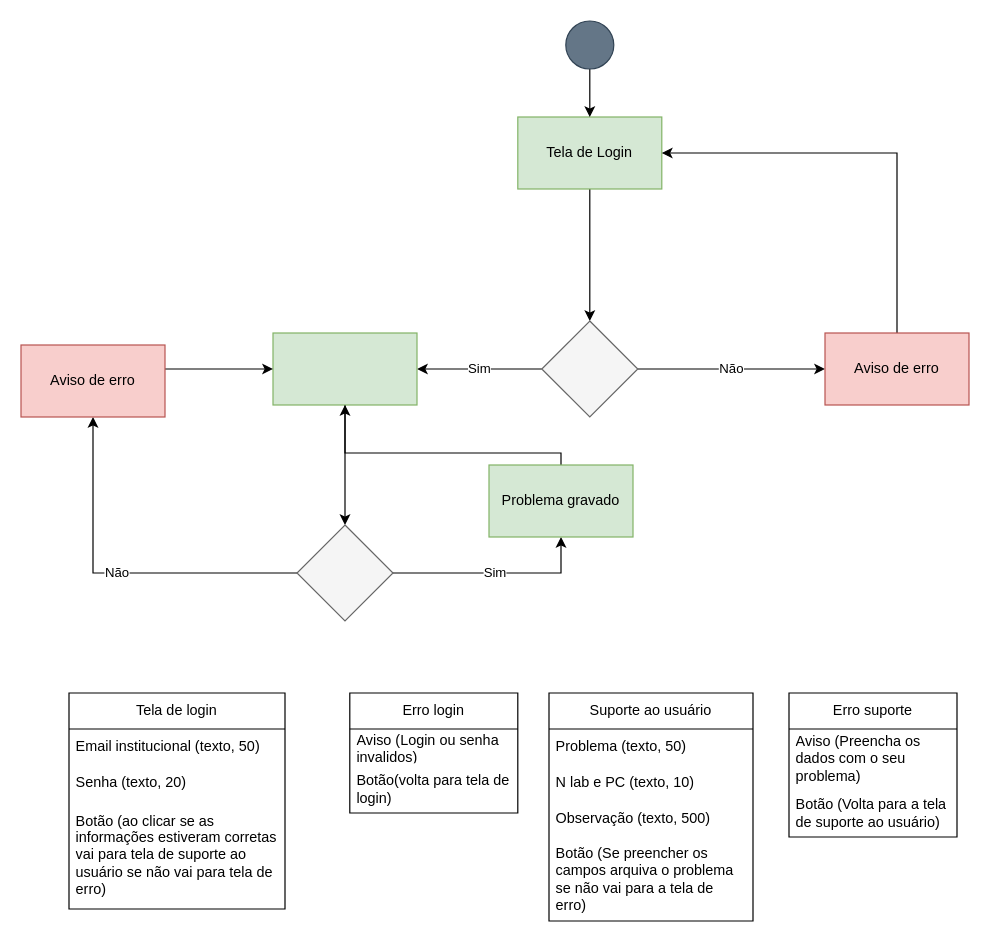
Image size: 990x942. Some labels were removed from this diagram. Here are the shapes that lost their labels. From the top down, the centre of each, then its label:
At (x=589, y=44): "inicio".
At (x=344, y=368): "Suporte ao usuá rio".
At (x=589, y=368): "fez login".
At (x=344, y=572): "informar problema".
